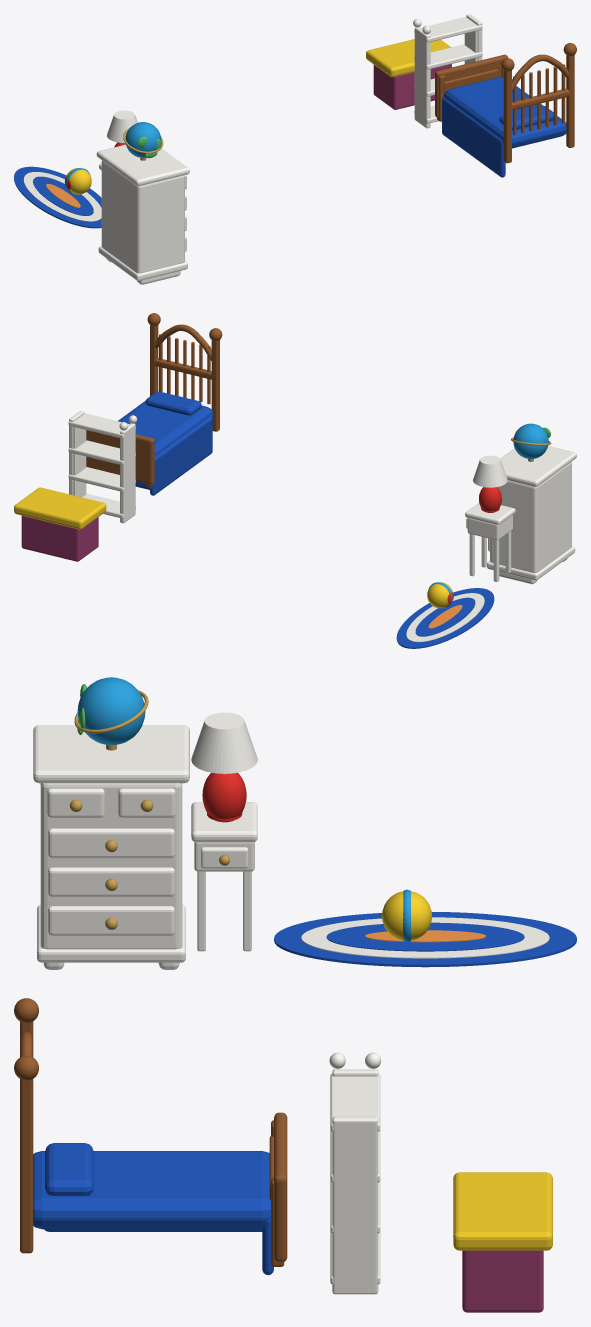
The model's file is cloud_bedroom_gallery_bay.glb.
The picture shows the model from 3 angles, top to bottom: view 1: azimuth 30°, elevation 25°; view 2: azimuth 150°, elevation 25°; view 3: azimuth 270°, elevation 25°; orthographic projection. The views are drawn at different scales.
Parts seen in each view (by area): view 1: Left Tall Dresser Carcass, Bed Mattress, Blue Bedspread Side Drop, Left Dresser Crown Top, Right Shelf Side -0.76, Foreground Plum Desk Base, Foreground Yellow Desk Top, Oval Rug Layer 1, Bed Footboard, Oval Rug Layer 2, Oval Rug Layer 3, Blue Globe (+11 smaller); view 2: Left Tall Dresser Carcass, Foreground Plum Desk Base, Foreground Yellow Desk Top, Blue Bedspread Side Drop, Bed Mattress, Left Dresser Crown Top, Bed Footboard, Right Shelf Side -0.76, Oval Rug Layer 1, Oval Rug Layer 2, Blue Globe, Oval Rug Layer 3 (+15 smaller); view 3: Bed Mattress, Left Tall Dresser Carcass, Right Shelf Side +0.76, Left Dresser Crown Top, Foreground Yellow Desk Top, Oval Rug Layer 1, Foreground Plum Desk Base, Left Dresser Raised Drawer 2 +0.00, Left Dresser Raised Drawer 4 +0.00, Left Dresser Raised Drawer 3 +0.00, Oval Rug Layer 2, Blue Globe (+15 smaller).
Part boxes in pixels (x1,y1,x2,y2): Left Tall Dresser Carcass: [101, 160, 184, 273]; Bed Mattress: [443, 77, 566, 148]; Blue Bedspread Side Drop: [442, 97, 505, 177]; Left Dresser Crown Top: [96, 144, 189, 186]; Right Shelf Side -0.76: [414, 27, 430, 128]; Foreground Plum Desk Base: [373, 64, 451, 109]; Foreground Yellow Desk Top: [366, 39, 450, 77]; Oval Rug Layer 1: [14, 166, 101, 228]; Bed Footboard: [435, 54, 508, 117]; Oval Rug Layer 2: [23, 172, 101, 221]; Oval Rug Layer 3: [33, 176, 93, 215]; Blue Globe: [125, 122, 161, 157]; Left Tall Dresser Carcass: [490, 461, 571, 572]; Foreground Plum Desk Base: [21, 515, 98, 561]; Foreground Yellow Desk Top: [14, 487, 106, 529]; Blue Bedspread Side Drop: [150, 416, 212, 495]; Bed Mattress: [118, 400, 213, 457]; Left Dresser Crown Top: [500, 446, 576, 486]; Bed Footboard: [86, 430, 154, 484]; Right Shelf Side -0.76: [120, 423, 135, 523]; Oval Rug Layer 1: [396, 588, 494, 648]; Oval Rug Layer 2: [406, 593, 484, 642]; Blue Globe: [513, 423, 548, 458]; Oval Rug Layer 3: [415, 597, 475, 636]; Bed Mattress: [33, 1151, 270, 1229]; Left Tall Dresser Carcass: [40, 783, 182, 949]; Right Shelf Side +0.76: [332, 1116, 378, 1294]; Left Dresser Crown Top: [33, 725, 189, 783]; Foreground Yellow Desk Top: [453, 1172, 552, 1250]; Oval Rug Layer 1: [274, 912, 576, 967]; Foreground Plum Desk Base: [462, 1250, 543, 1312]; Left Dresser Raised Drawer 2 +0.00: [48, 828, 174, 858]; Left Dresser Raised Drawer 4 +0.00: [48, 906, 174, 935]; Left Dresser Raised Drawer 3 +0.00: [48, 867, 174, 896]; Oval Rug Layer 2: [301, 917, 549, 958]; Blue Globe: [77, 677, 145, 745].
Size of the model in its own units: 12.88 by 4.07 by 7.62.
